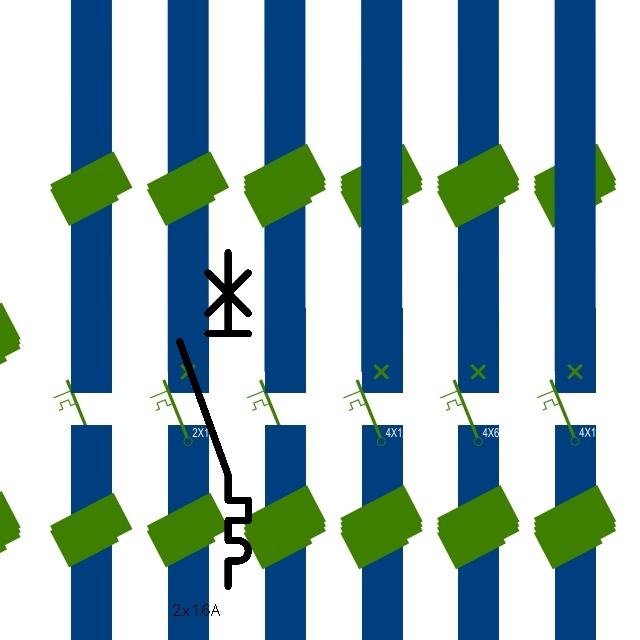interruptor_termomagnetico: (171, 244, 257, 595)
